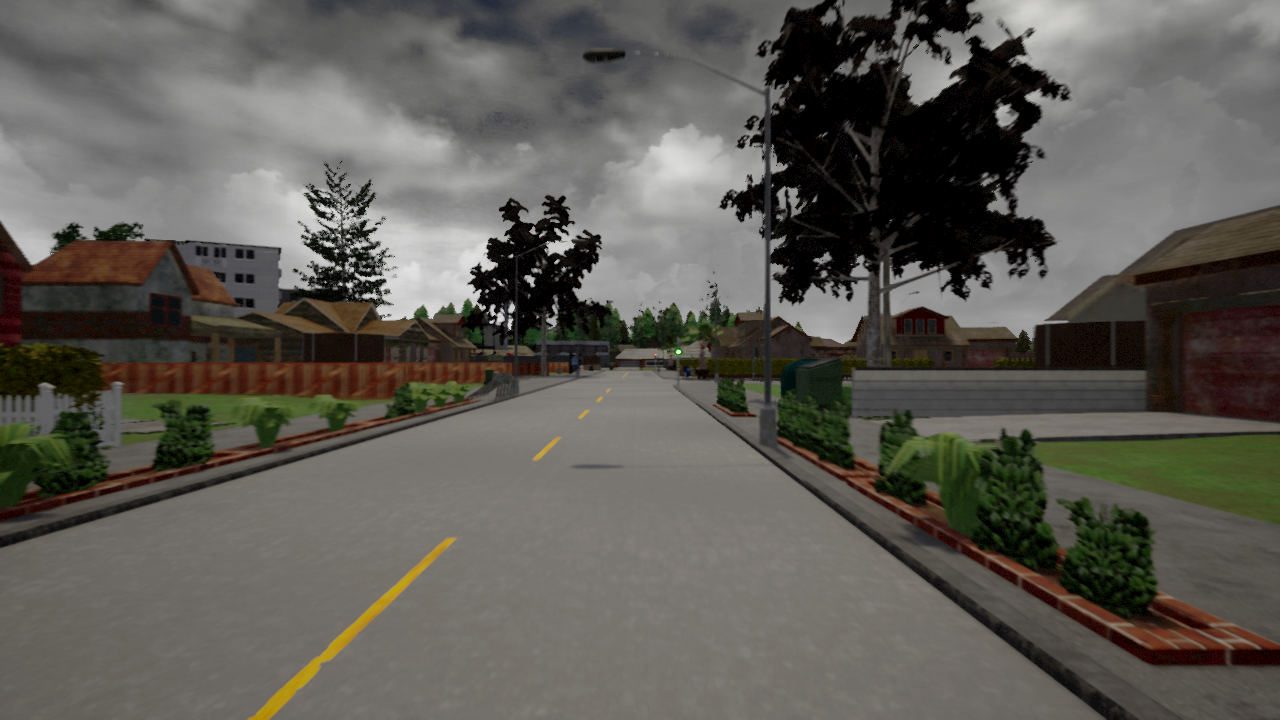green: (675, 339, 682, 356)
